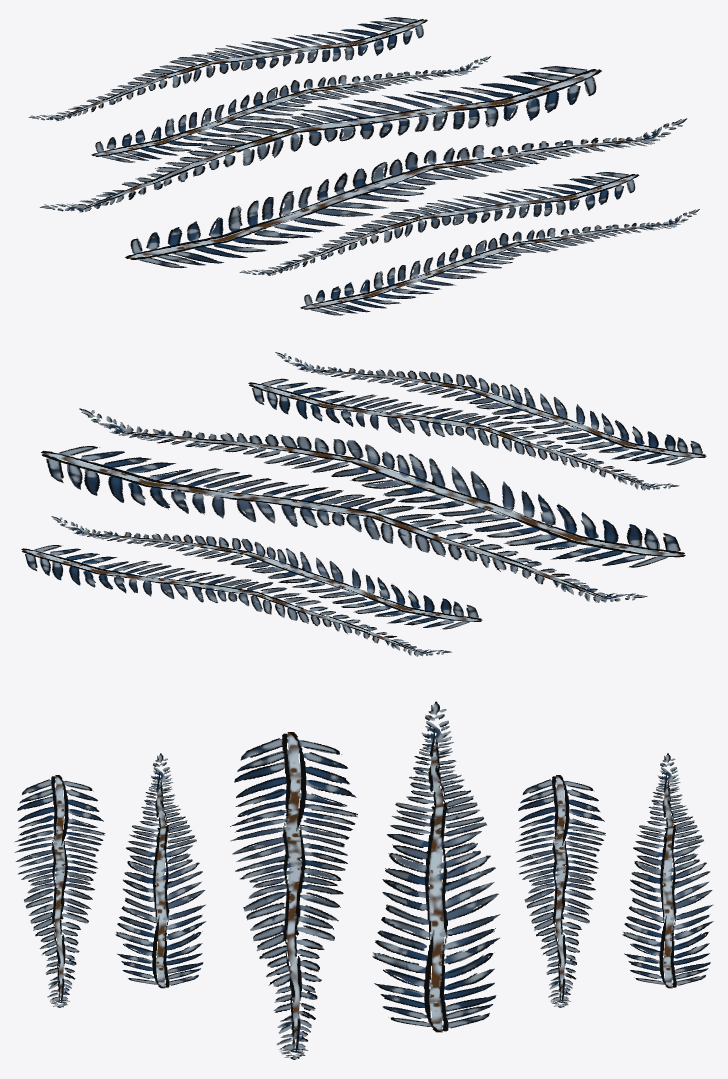
The model's file is Chopped_FrostFern.fbx.
The picture shows the model from 3 angles, top to bottom: view 1: azimuth 30°, elevation 25°; view 2: azimuth 150°, elevation 25°; view 3: azimuth 270°, elevation 25°; orthographic projection. The views are drawn at different scales.
Parts seen in each view (by area): view 1: Chopped Fern.001, Chopped Fern, Chopped Fern.005, Chopped Fern.003, Chopped Fern.002, Chopped Fern.004; view 2: Chopped Fern.001, Chopped Fern, Chopped Fern.003, Chopped Fern.005, Chopped Fern.002, Chopped Fern.004; view 3: Chopped Fern, Chopped Fern.001, Chopped Fern.002, Chopped Fern.004, Chopped Fern.005, Chopped Fern.003.
Part boxes in pixels (<box>): Chopped Fern.001: <box>125,118,686,267</box>; Chopped Fern: <box>40,66,601,212</box>; Chopped Fern.005: <box>300,209,699,315</box>; Chopped Fern.003: <box>91,56,490,162</box>; Chopped Fern.002: <box>28,17,427,121</box>; Chopped Fern.004: <box>239,172,639,275</box>; Chopped Fern.001: <box>79,408,685,567</box>; Chopped Fern: <box>41,446,647,602</box>; Chopped Fern.003: <box>51,516,482,629</box>; Chopped Fern.005: <box>275,352,706,465</box>; Chopped Fern.002: <box>21,545,451,656</box>; Chopped Fern.004: <box>248,378,679,490</box>; Chopped Fern: <box>372,701,500,1032</box>; Chopped Fern.001: <box>230,732,357,1059</box>; Chopped Fern.002: <box>622,753,713,988</box>; Chopped Fern.004: <box>115,753,206,988</box>; Chopped Fern.005: <box>14,775,105,1007</box>; Chopped Fern.003: <box>515,775,605,1007</box>.
Size of the model in its own units: 59.98 by 48.58 by 3.4.
Materials: 1 (1 with a texture image).
